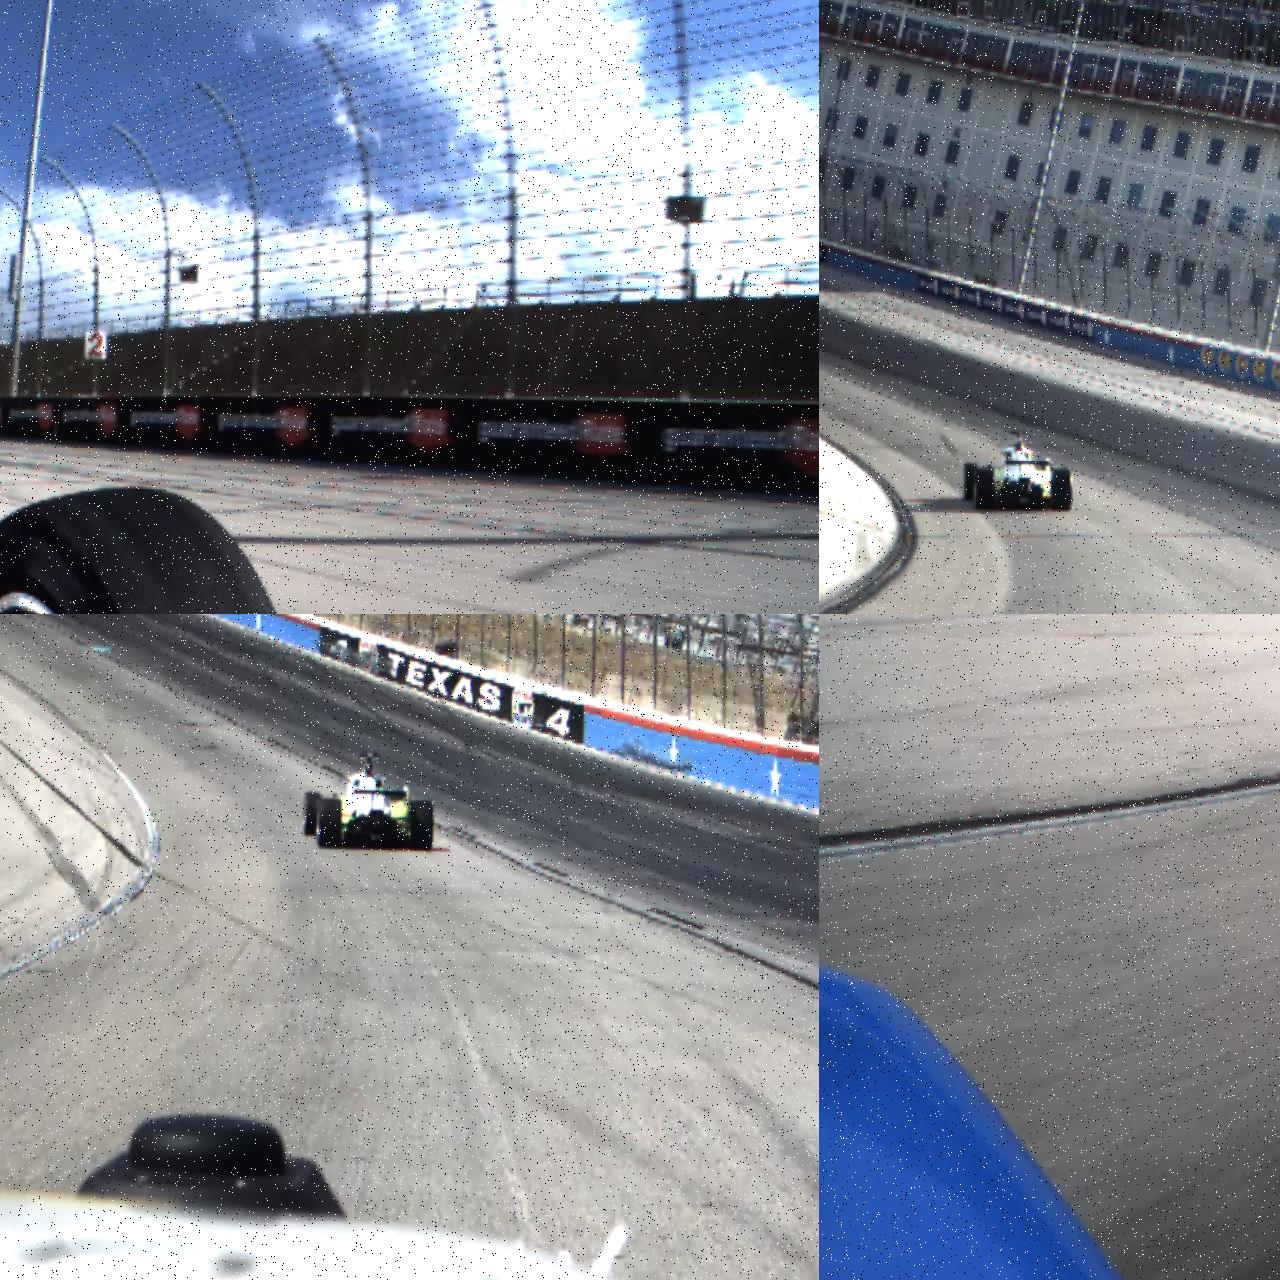AV: (302, 750, 436, 851), (962, 428, 1072, 514)
Wheel: (0, 481, 314, 614), (316, 798, 342, 848), (409, 800, 434, 851), (974, 468, 995, 511), (1052, 468, 1072, 511), (303, 792, 321, 836), (963, 462, 978, 502)
